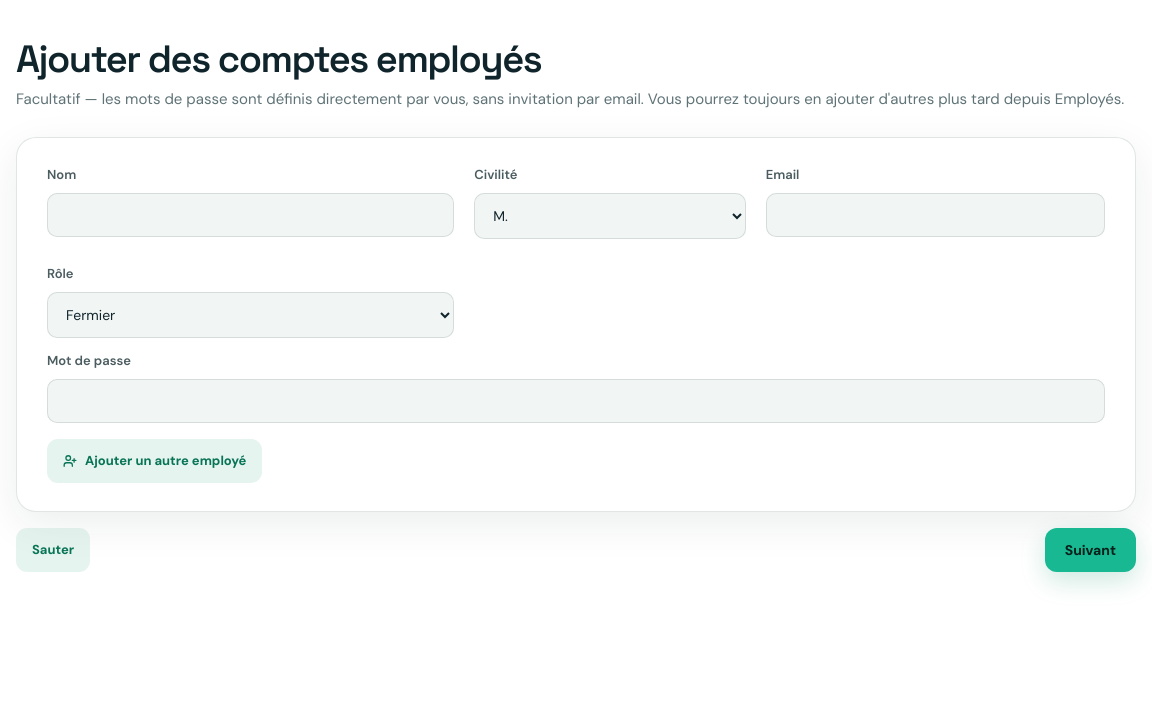
Test: OnboardingEmployeesPage — Suivant saves what is on screen › a half-filled form is refused with a message and nothing is sent
This screenshot has width=1152, height=720.
Step 1. Type "Joseph" into the field labelled "Nom" → (251, 215), box [47,193,454,237]
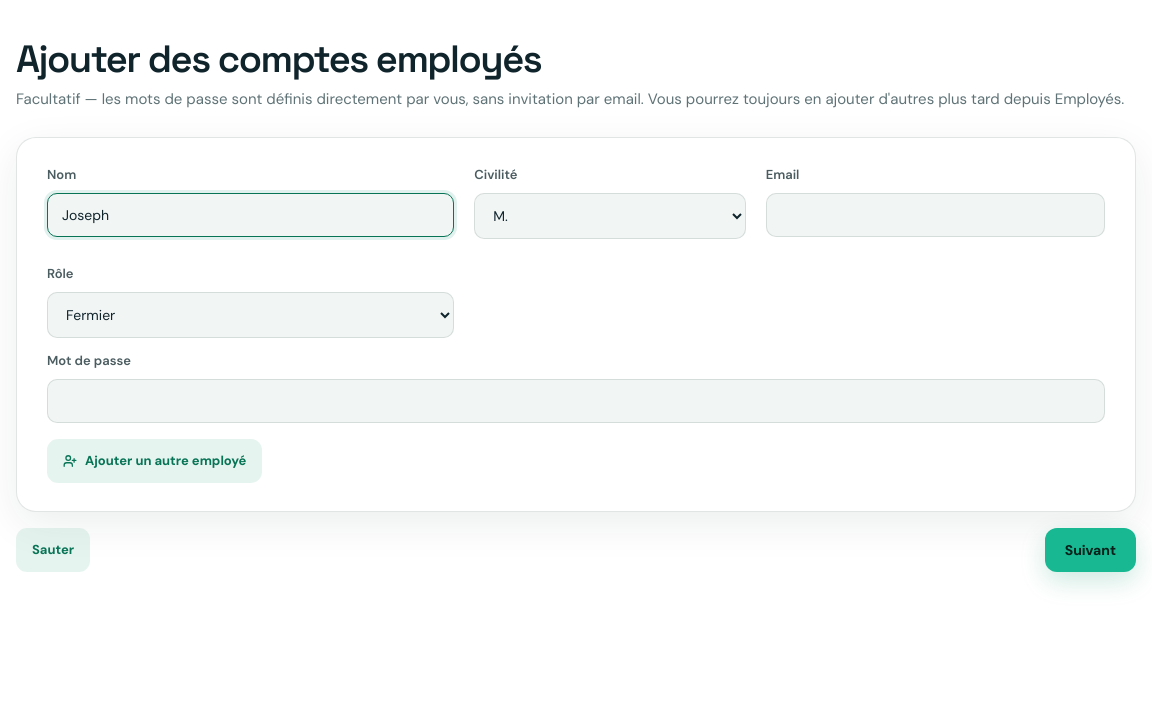
Step 2. Click the button "Suivant" → (1090, 550), box [1045,528,1136,572]
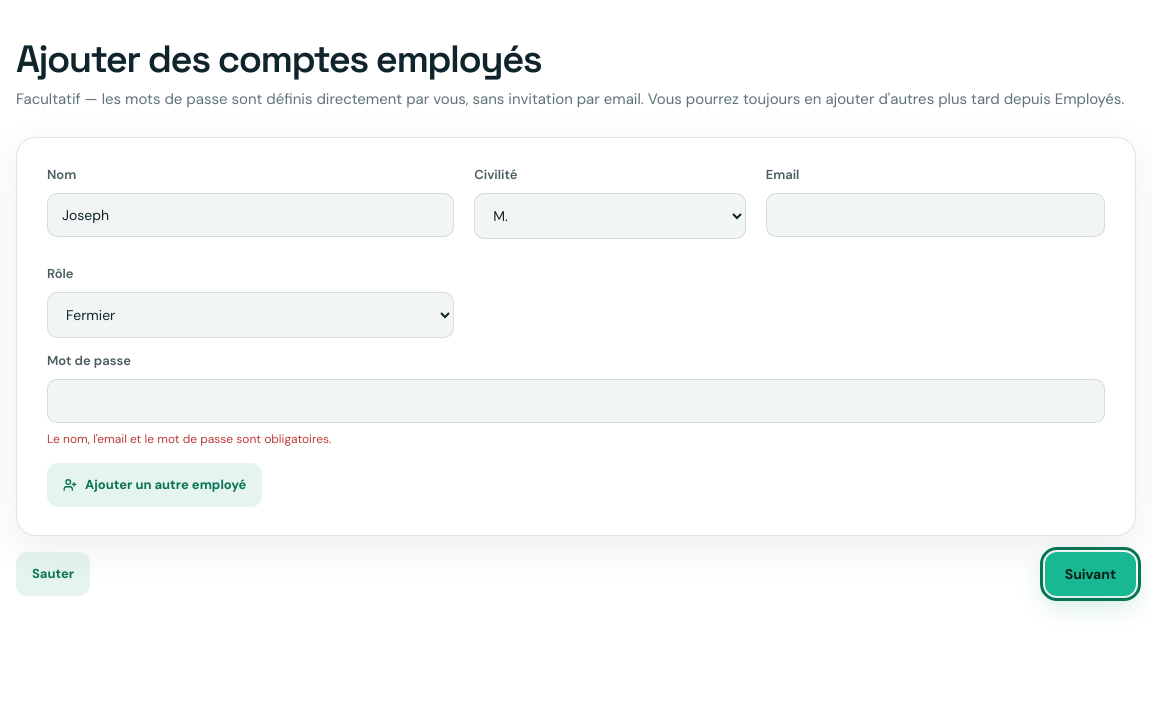
Now the text "Le nom, l'email et le mot de passe sont obligatoires." is shown, box [47,431,331,447]
